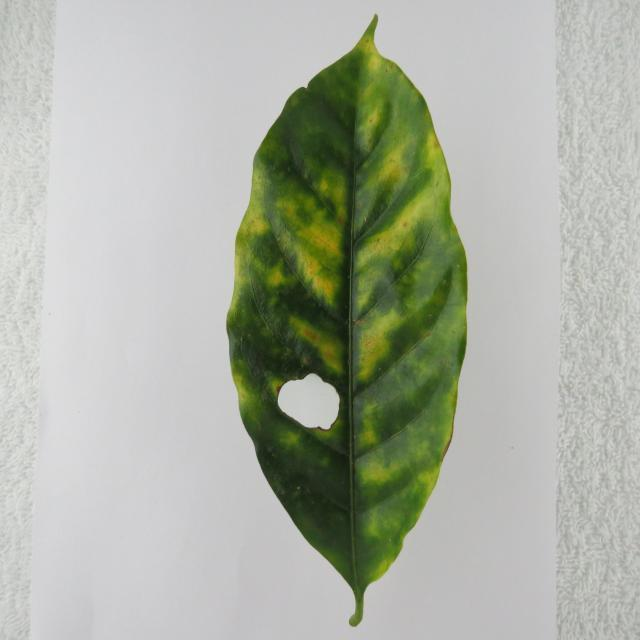DeficienciaNutricional-Magnesio: (228, 18, 466, 625)
